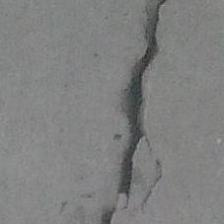Crack: (119, 0, 216, 224)
